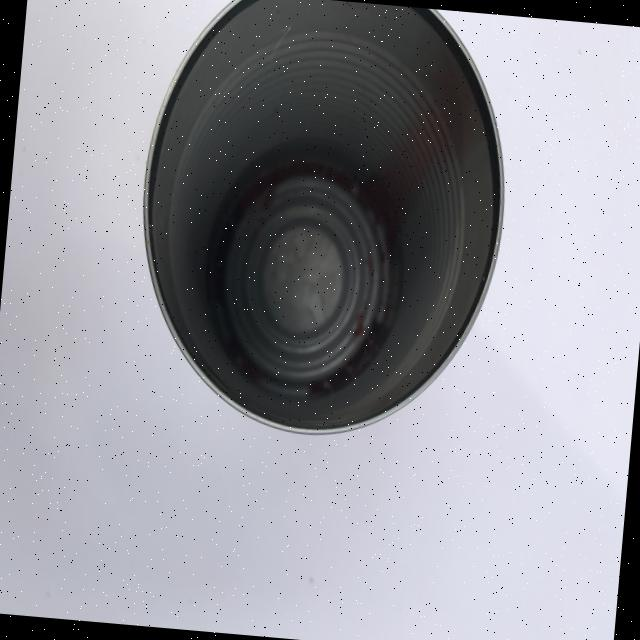metal: (122, 0, 521, 449)
